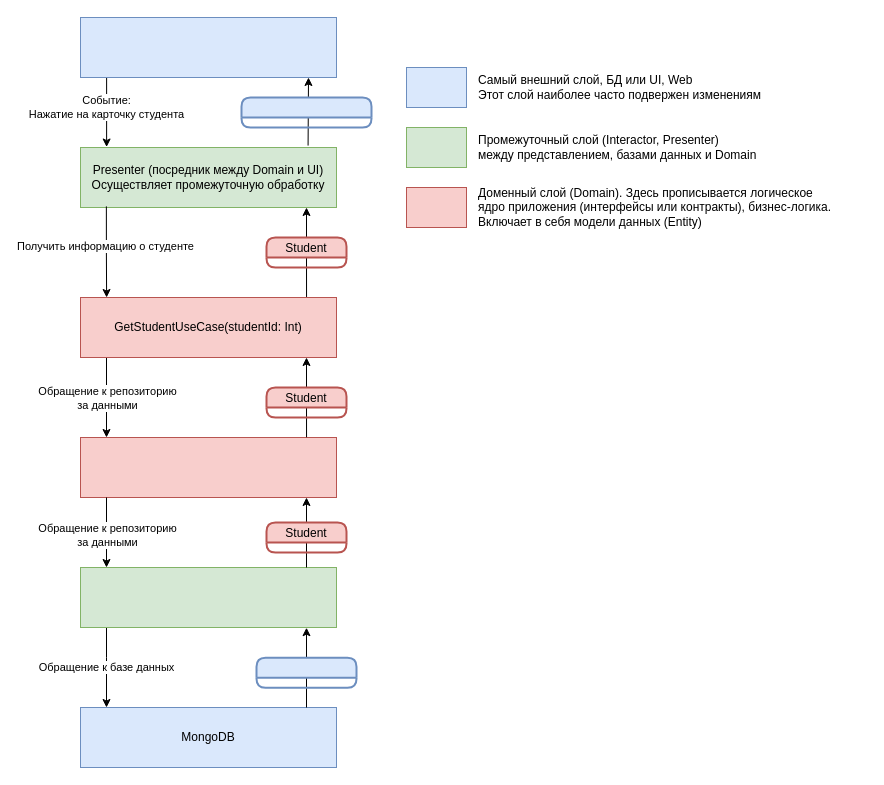
Image size: 884x785. Some labels were removed from this diagram. Each missing label, with the centre of its shape:
"StudentEntity" goes at [306,672].
"StudentRepoImplementation (реализация репозитория)" goes at [208,597].
"StudentsRepo" goes at [208,467].
"StudentUIPresentation" goes at [306,112].
"UI (интерфейс или командная строка)" goes at [208,47].
